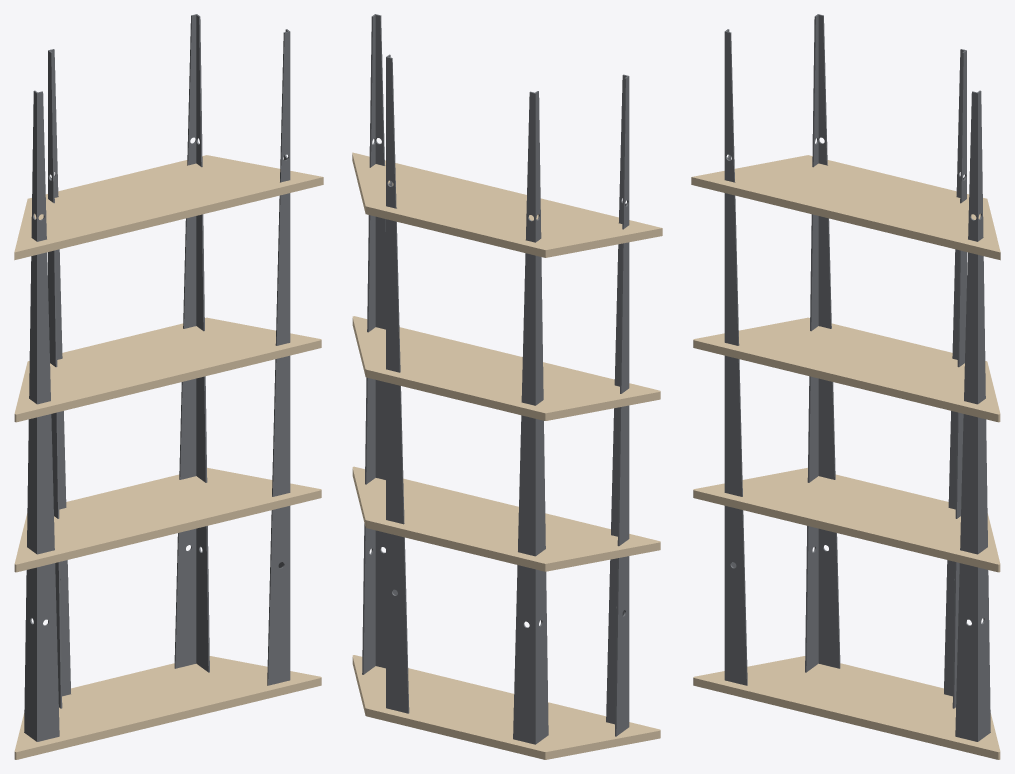
The model's file is mies_v.glb.
3 views of the same model, side by side, from view 1: azimuth 30°, elevation 25°; view 2: azimuth 150°, elevation 25°; view 3: azimuth 330°, elevation 25° (orthographic).
Visible parts, largest first — view 1: balda_3, viga_1, balda_2, balda_1, base, viga_3, viga_2, viga_4; view 2: viga_4, balda_3, balda_2, balda_1, base, viga_1, viga_3, viga_2; view 3: balda_3, viga_2, balda_2, balda_1, base, viga_4, viga_1, viga_3.
Part boxes in pixels (x1,y1,x2,y2): balda_3: (14,155,323,260); viga_1: (24,90,59,741); balda_2: (14,317,321,422); balda_1: (14,467,321,572); base: (14,656,321,759); viga_3: (174,14,209,672); viga_2: (267,29,290,685); viga_4: (48,49,70,708); viga_4: (513,91,548,744); balda_3: (352,152,662,257); balda_2: (352,316,660,420); balda_1: (352,466,660,571); base: (352,655,660,759); viga_1: (606,74,629,736); viga_3: (386,54,409,713); viga_2: (362,14,385,674); balda_3: (691,155,1000,260); viga_2: (955,90,990,741); balda_2: (693,317,1000,422); balda_1: (693,467,1000,572); base: (693,656,1000,759); viga_4: (805,14,840,672); viga_1: (724,29,747,685); viga_3: (944,49,966,708).
Size of the model in its own units: 1.04 by 2.1 by 0.3.
